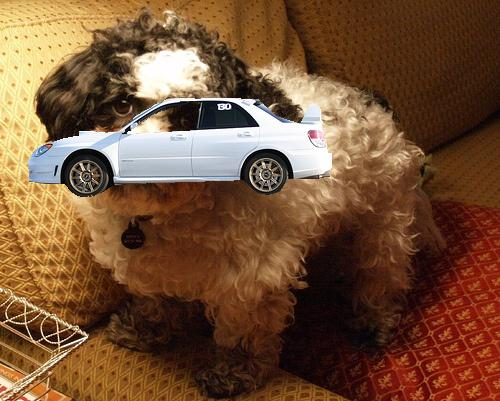tampered: (29, 99, 332, 197)
